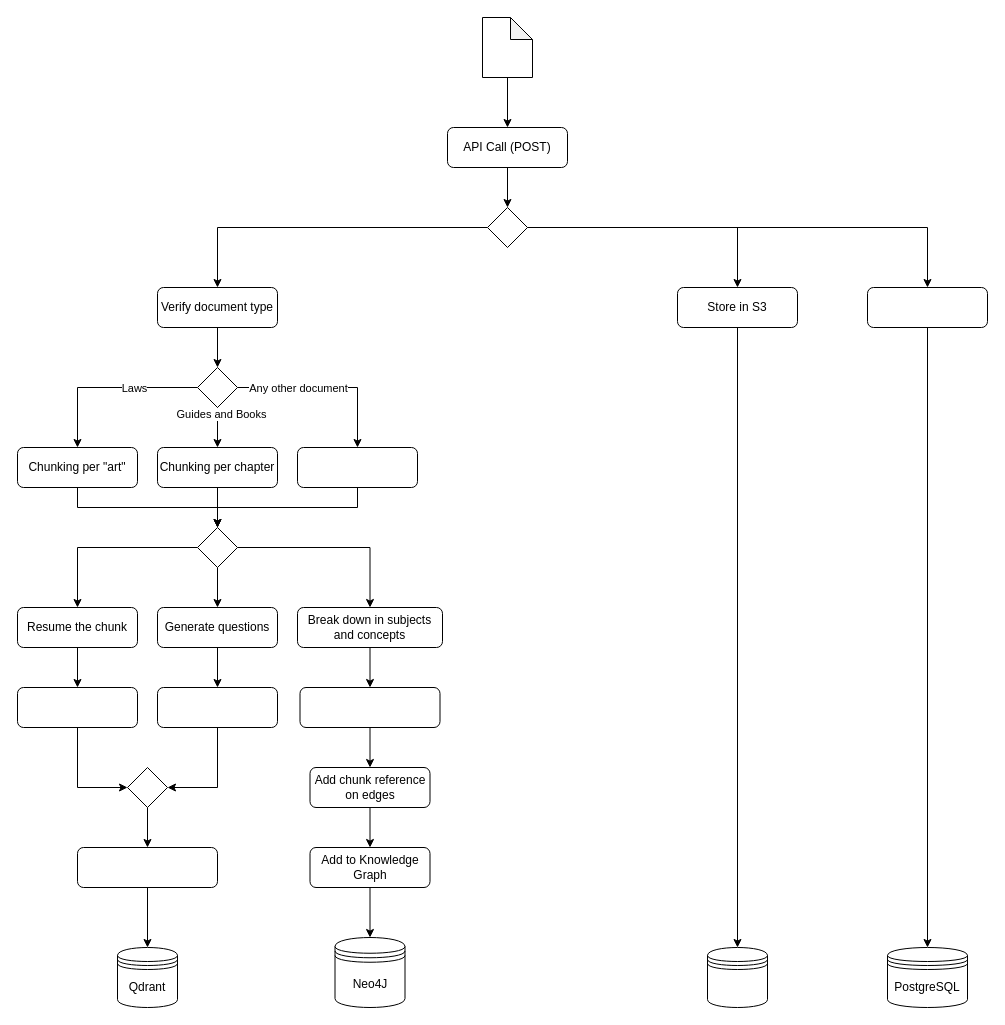
The diagram is 1005 pixels wide and 1025 high, and some of its shapes have lost their labels. Each missing label, with the centre of its shape:
"Add as a heading" goes at point (77, 707).
"Add as a question metadata" goes at point (217, 707).
"Add to the Vector Store" goes at point (147, 867).
"Generate Graphs and Nodes" goes at point (369, 707).
"S3 Amazon" goes at point (737, 977).
"Semantic chunking" goes at point (357, 467).
"Store uuid and document metadata" goes at point (927, 307).
